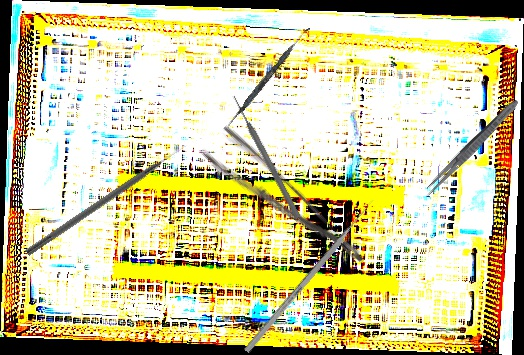Dressing Forceps: (199, 121, 368, 288), (420, 96, 523, 200)
Hook Surgical: (24, 142, 189, 258)
Pusher: (243, 197, 377, 354), (229, 93, 303, 220)
Spatula Surgical: (226, 24, 311, 129)
